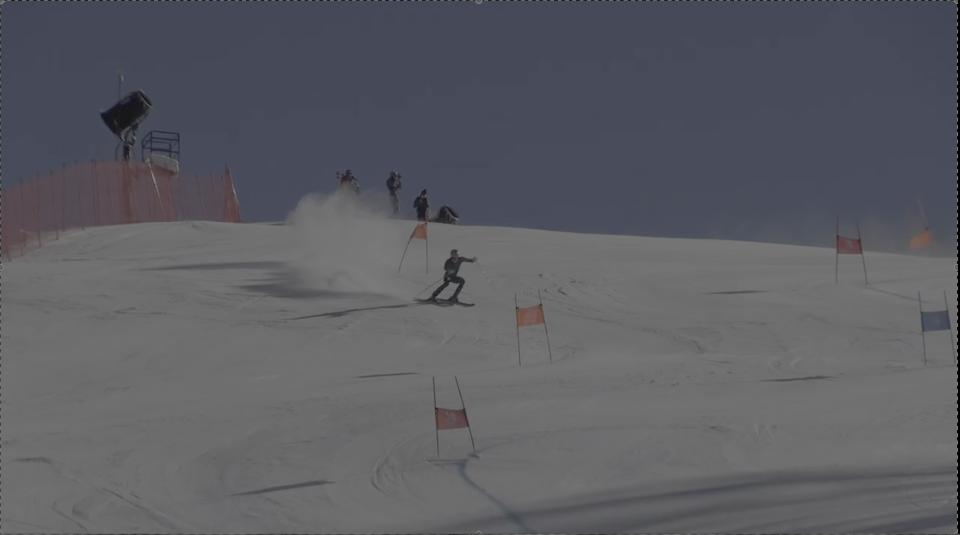gate: (423, 372, 455, 468), (451, 377, 480, 460), (532, 285, 558, 369), (501, 287, 524, 366)
